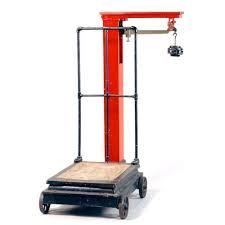Industrial Scale: (38, 10, 184, 218)
